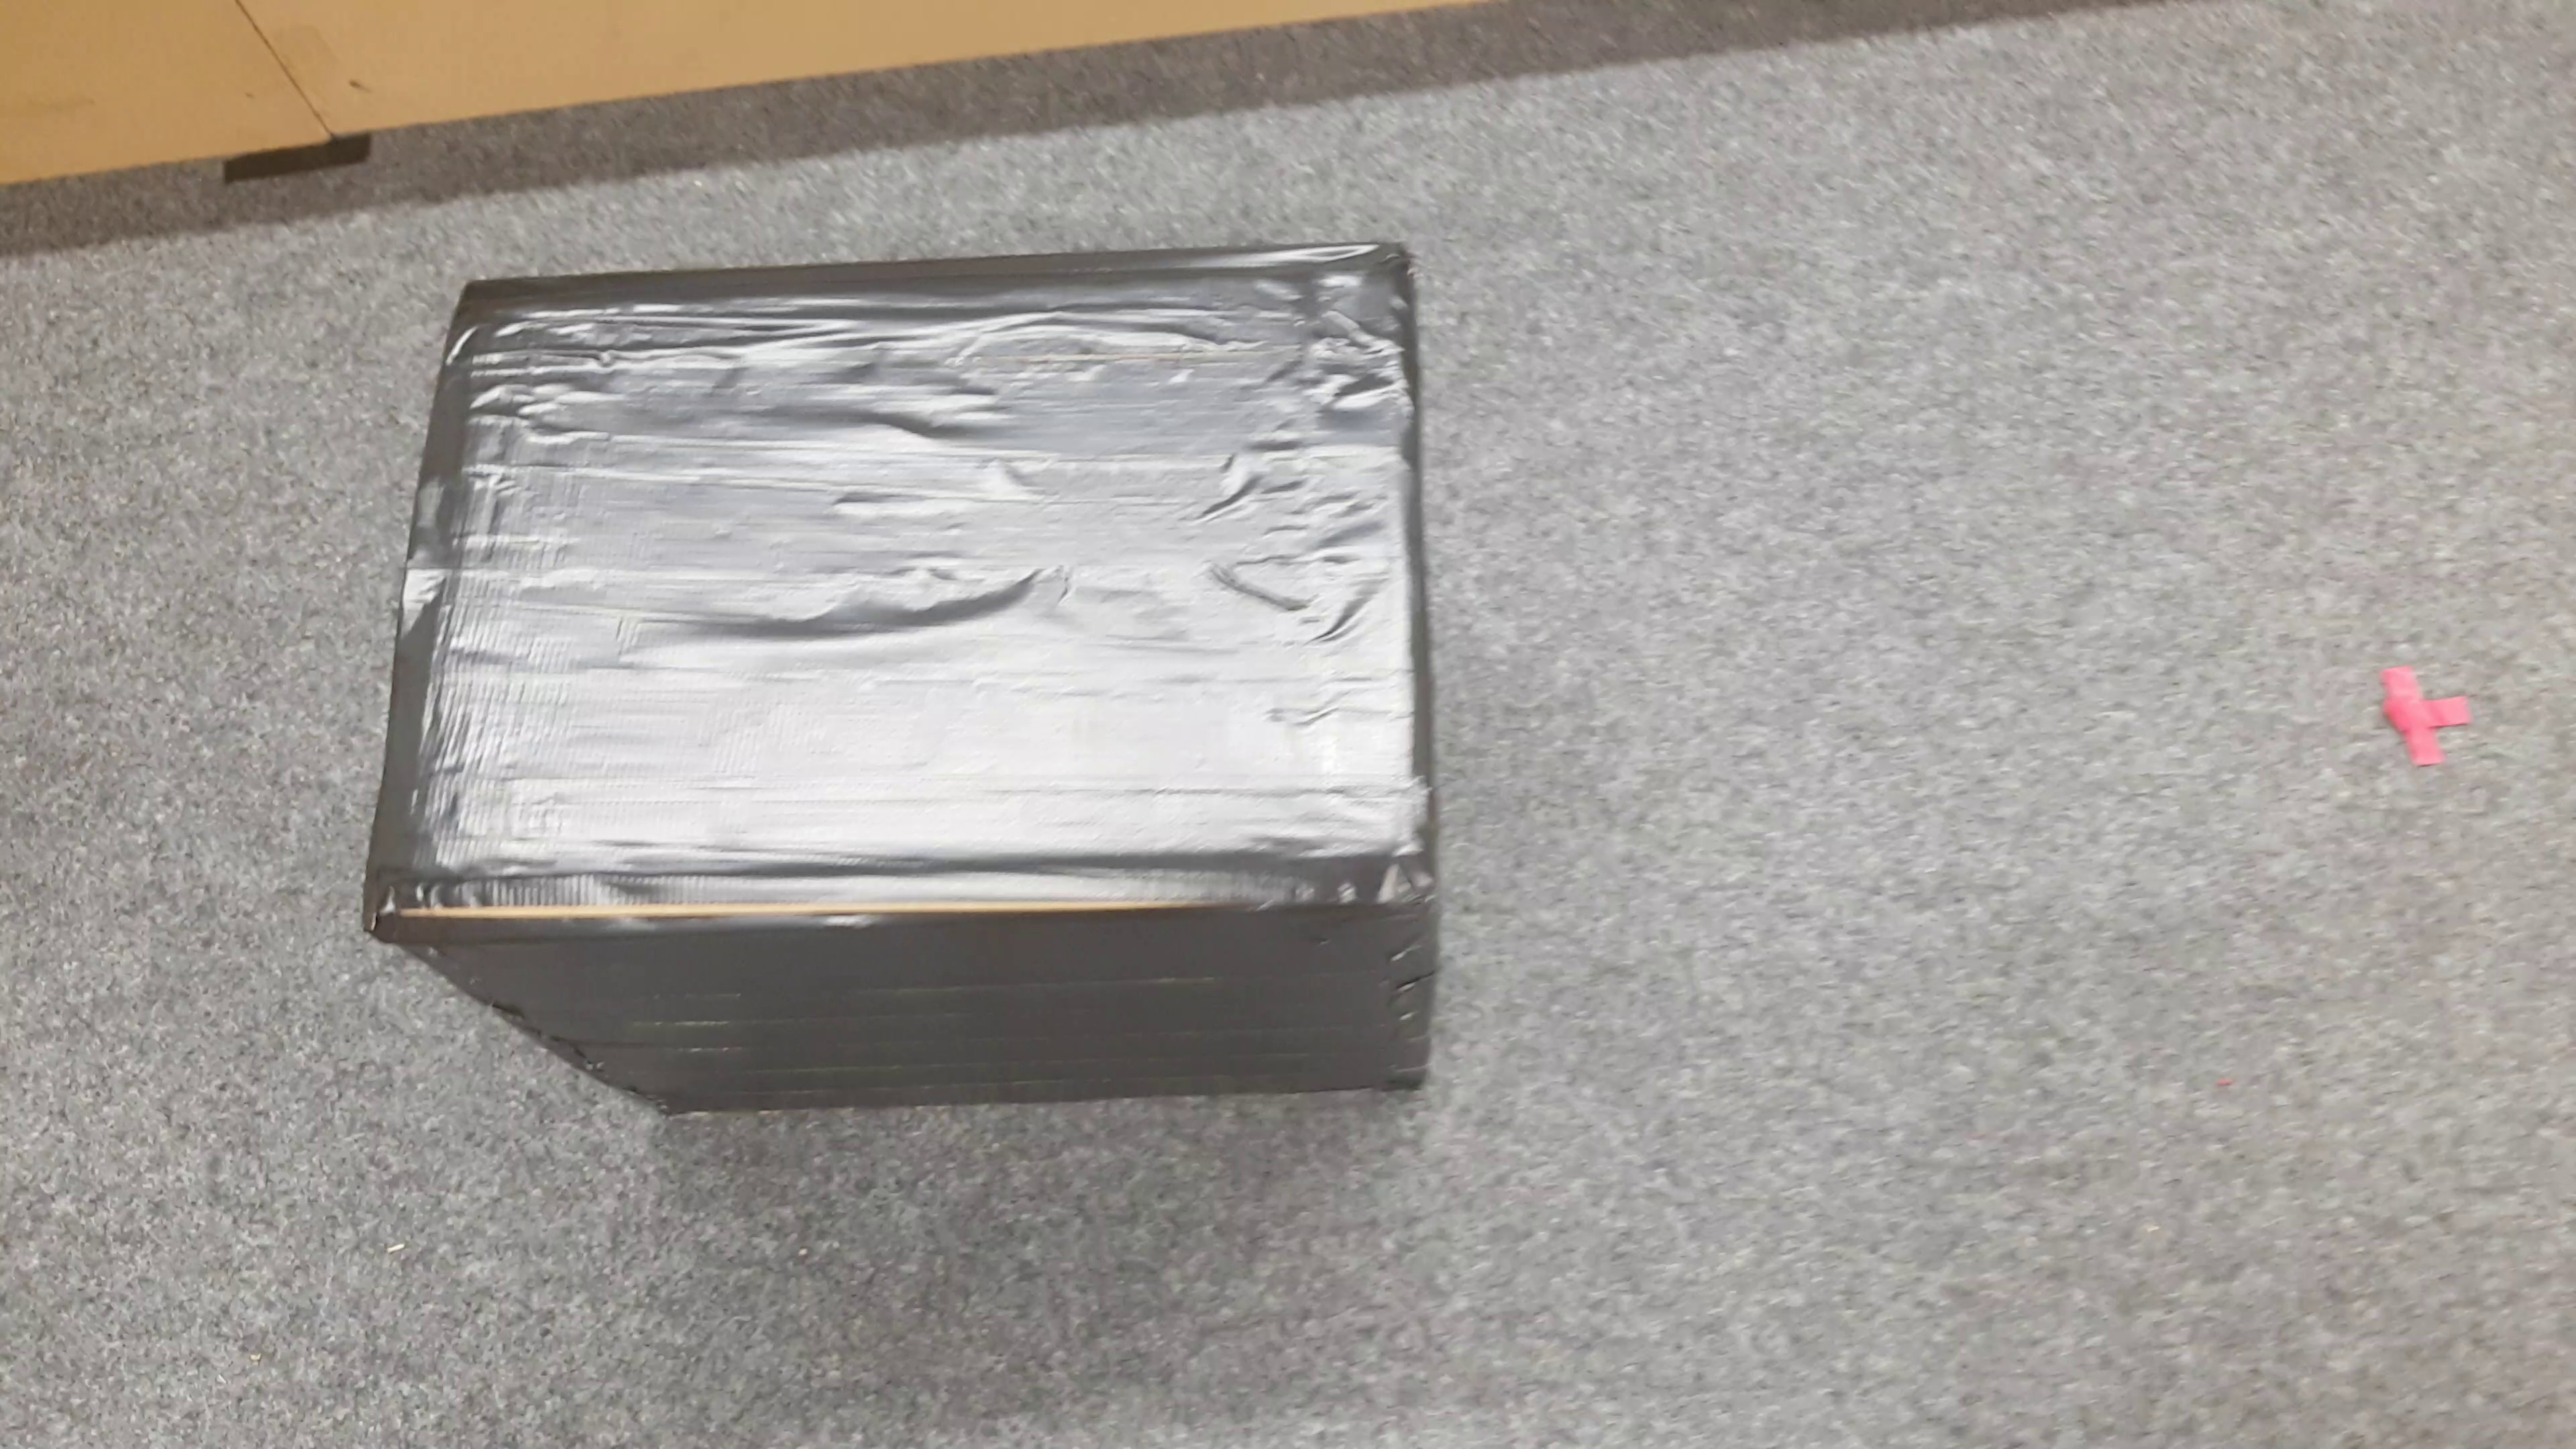push: (370, 272, 1447, 1109)
